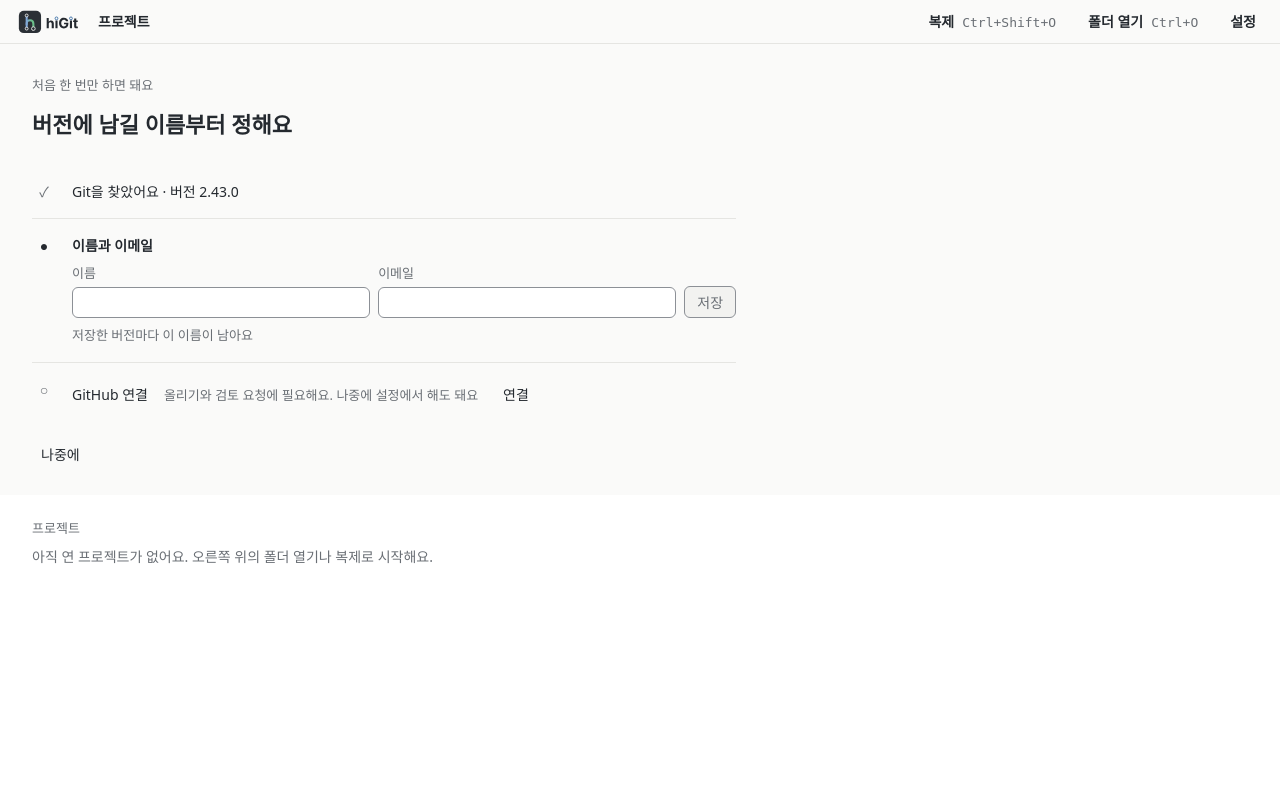
Test: 처음 실행 패널(D-126, start-first.png) › 나중에는 이번 실행 동안 숨기고 저장하지 않는다
Click the button "나중에".
click(60, 454)  # box top-left (32, 438), bottom-right (89, 470)
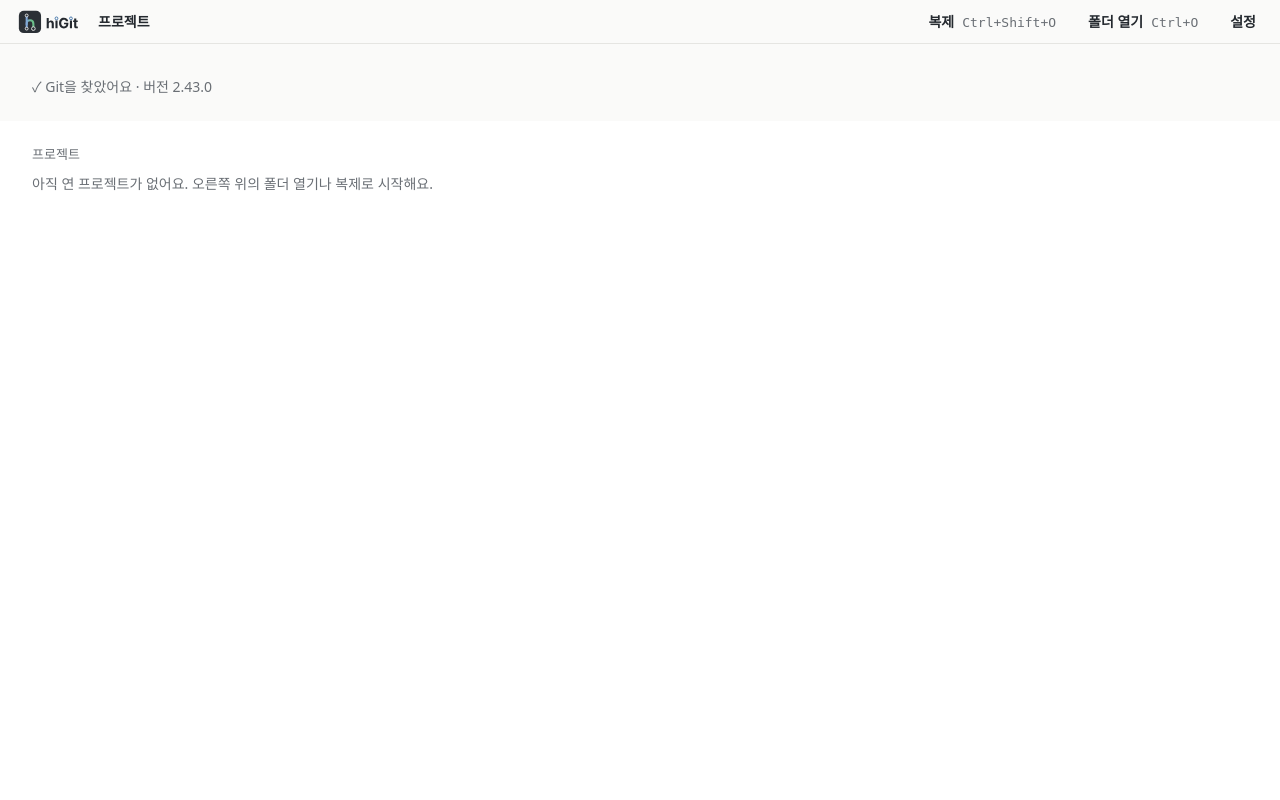
Expected: the text "✓ Git을 찾았어요 · 버전 2.43.0" is shown, top-left (32, 77), bottom-right (212, 96)
Result: the heading "버전에 남길 이름부터 정해요" is gone
